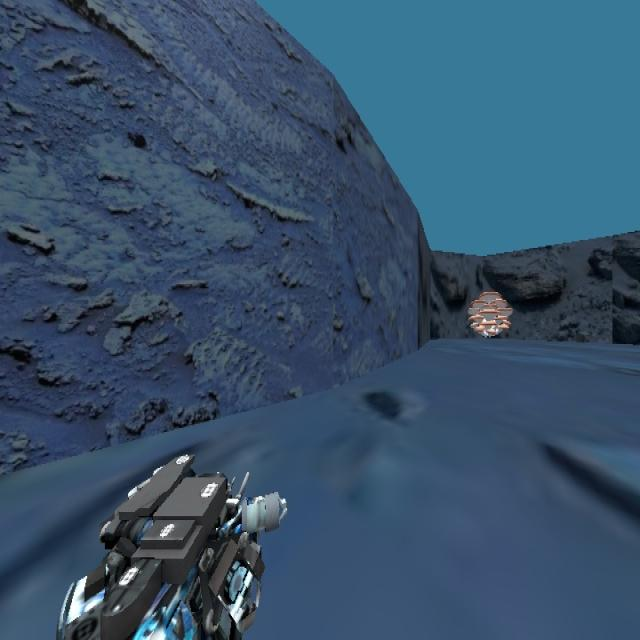Mushroom: (467, 288, 513, 337)
